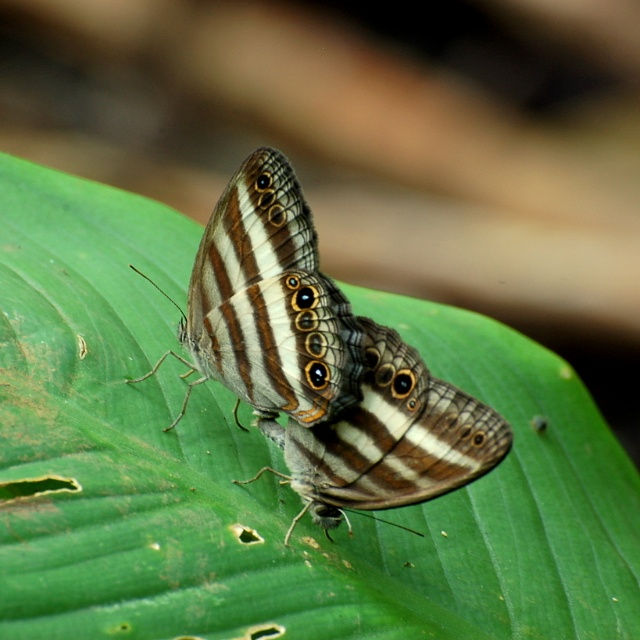Butterfly: (183, 144, 520, 519)
